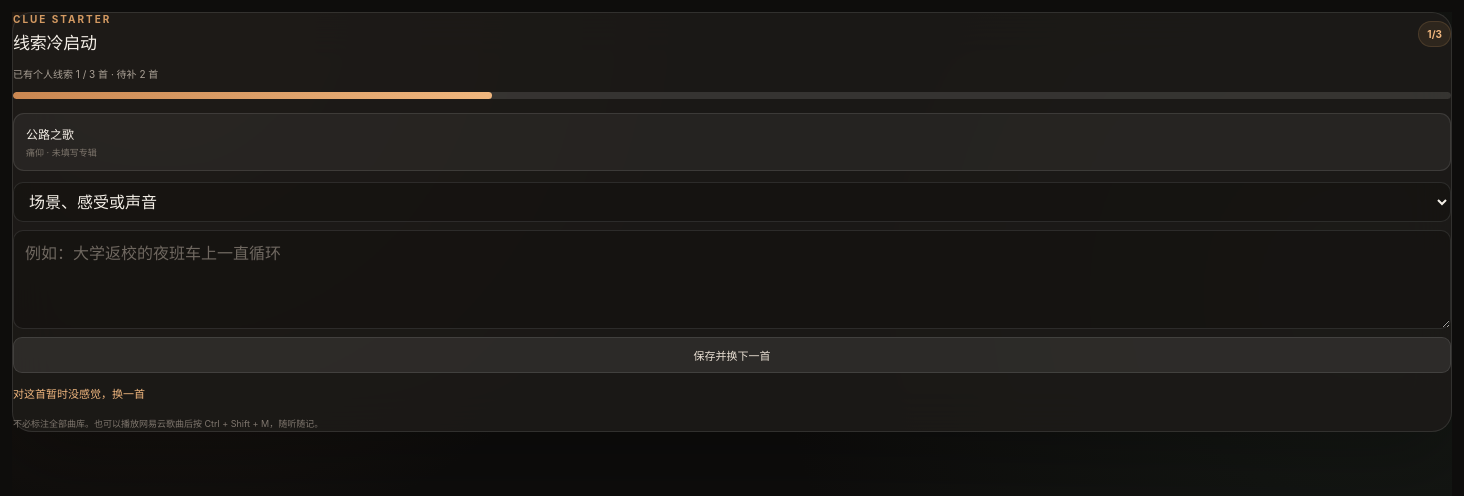
Test: ClueBootstrapPanel › keeps the clue visible when saving fails
Type "这条不能丢" into the text box with test id "bootstrap-input" at (732,280), box [13, 230, 1451, 329]
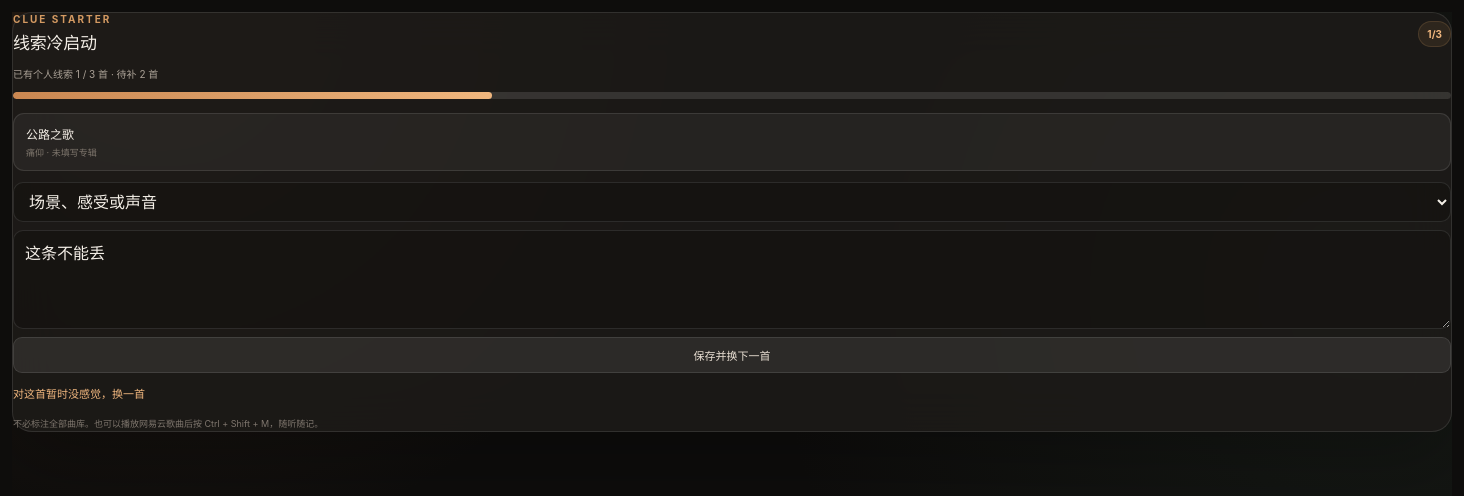
Submit the form with test id "bootstrap-form", box [13, 182, 1451, 373]
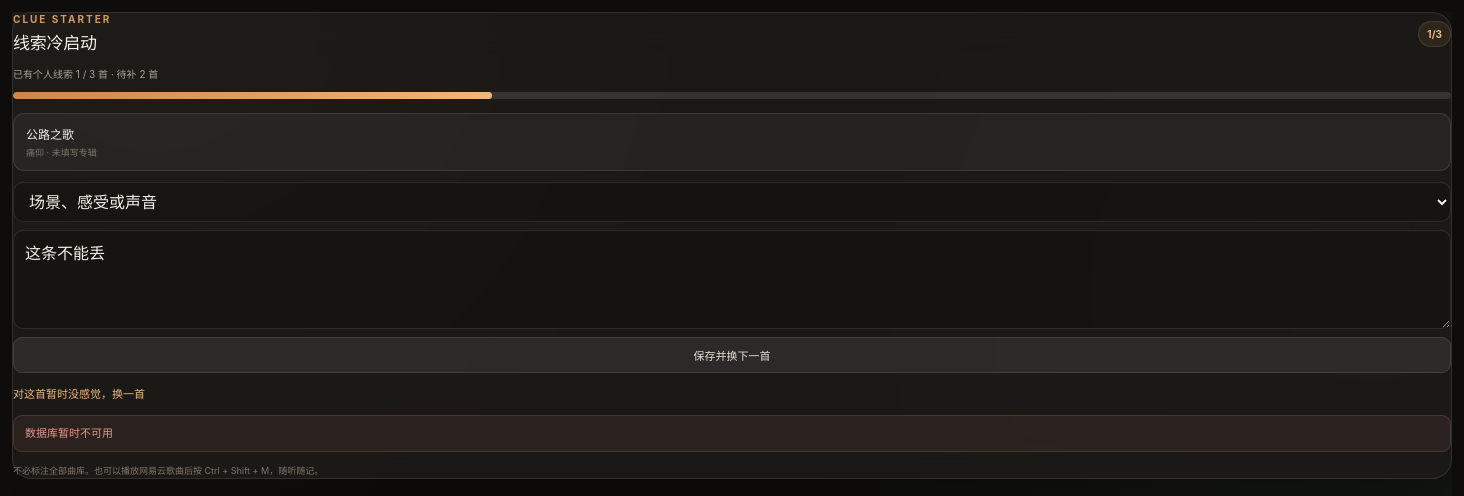
Result: the message "数据库暂时不可用" is shown at [13, 415, 1451, 452]
